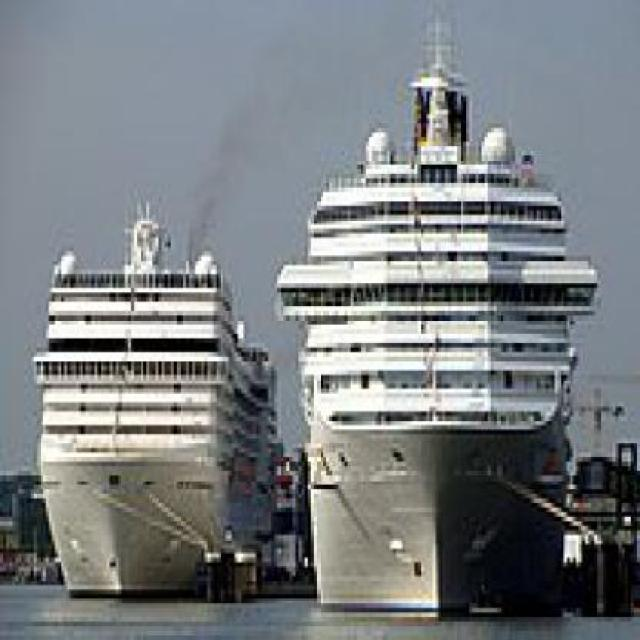cruise: (275, 6, 610, 627), (22, 184, 288, 601)
